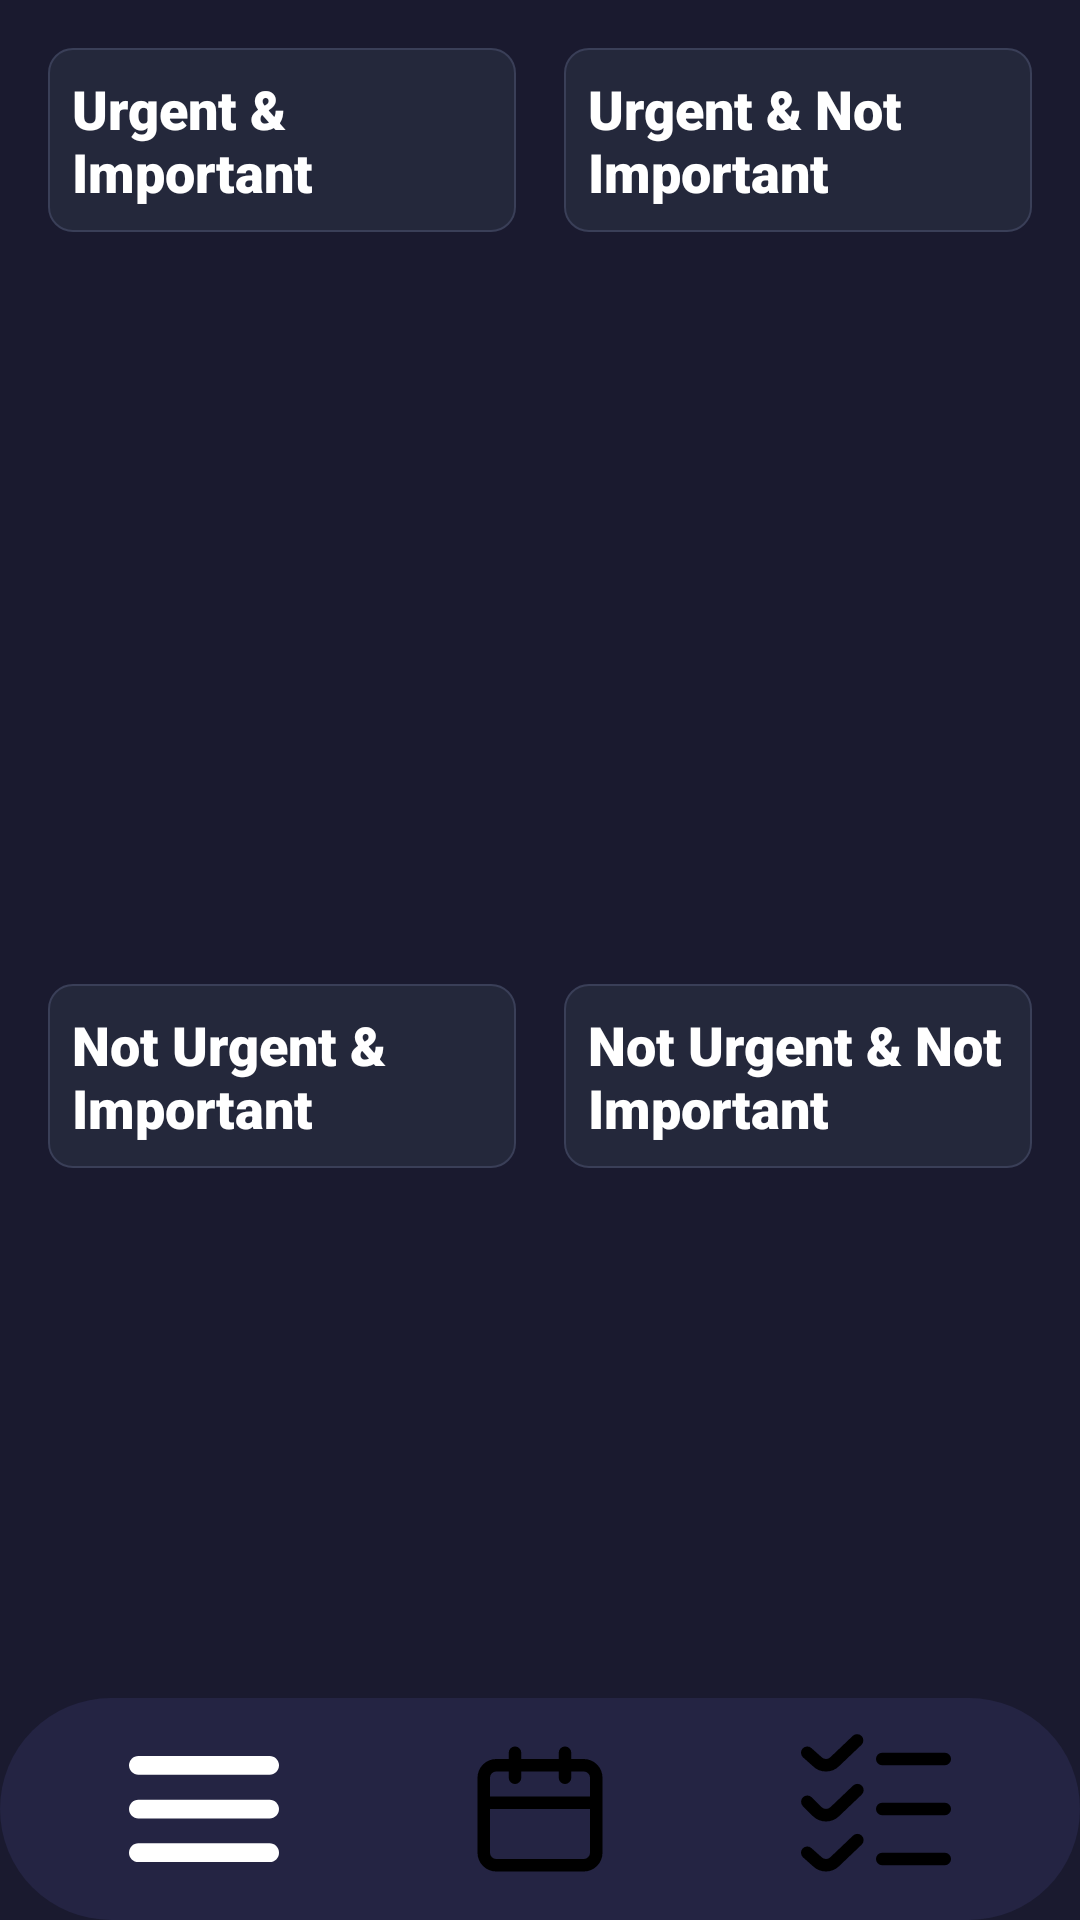

Icon click points for this 1080×1920 phone screenshot, format (x,y):
burger: (204,1809)
calender: (540,1809)
list check: (876,1803)
